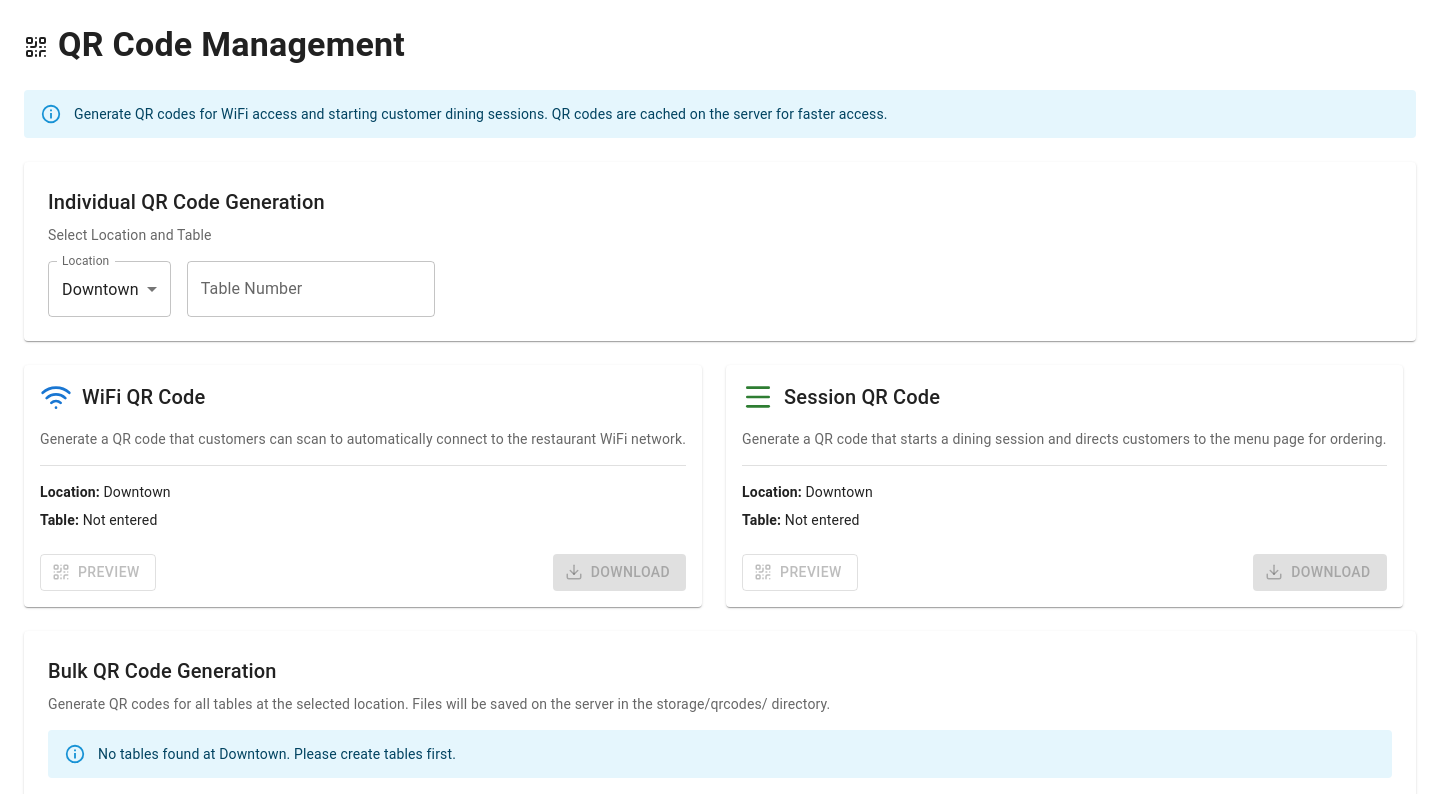
Scenario: QRCodeManagement Component › displays error message on API failure
Expected: the heading "QR Code Management" is shown, [24, 24, 405, 64]
// Fill table number
In the number field labelled "Table Number": (311, 289) [187, 261, 435, 317], type "5"
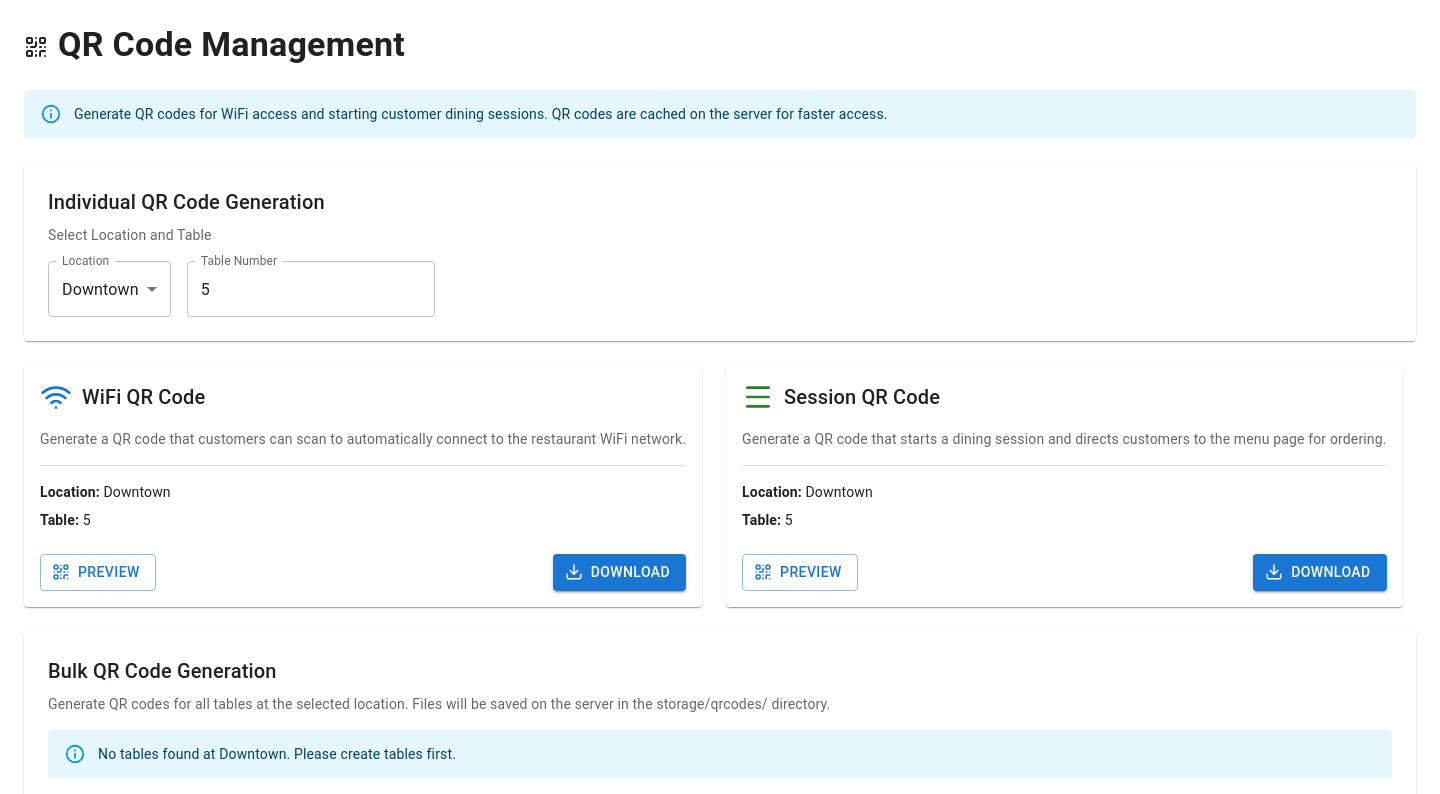
Expected: the 1st button "Download" is enabled
// Try to download
Click the 1st button "Download": (619, 572) [553, 554, 686, 591]
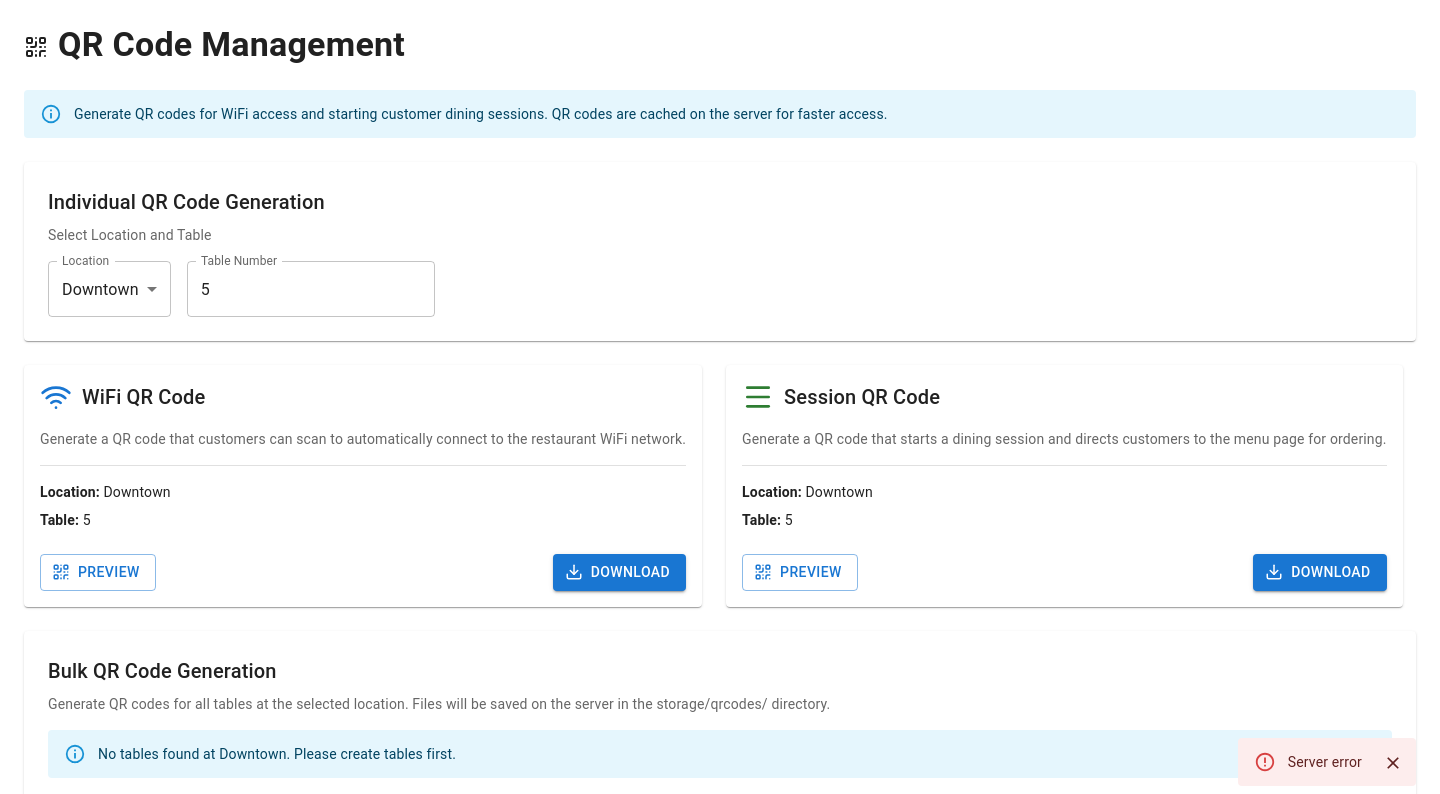
Expected: the text "Server error" is shown, [1288, 754, 1362, 770]
